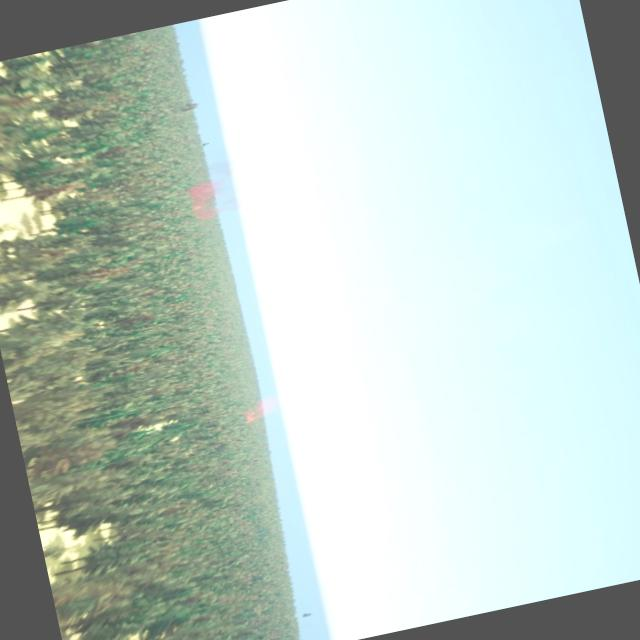smoke: (181, 164, 252, 228), (236, 392, 290, 427)
